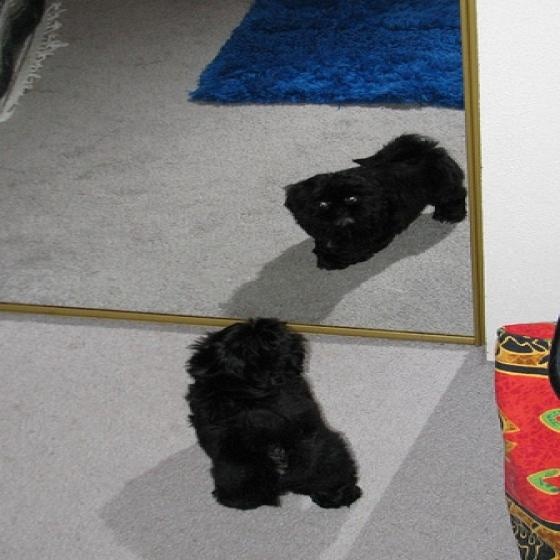dog: (189, 318, 360, 513), (281, 133, 476, 270)
